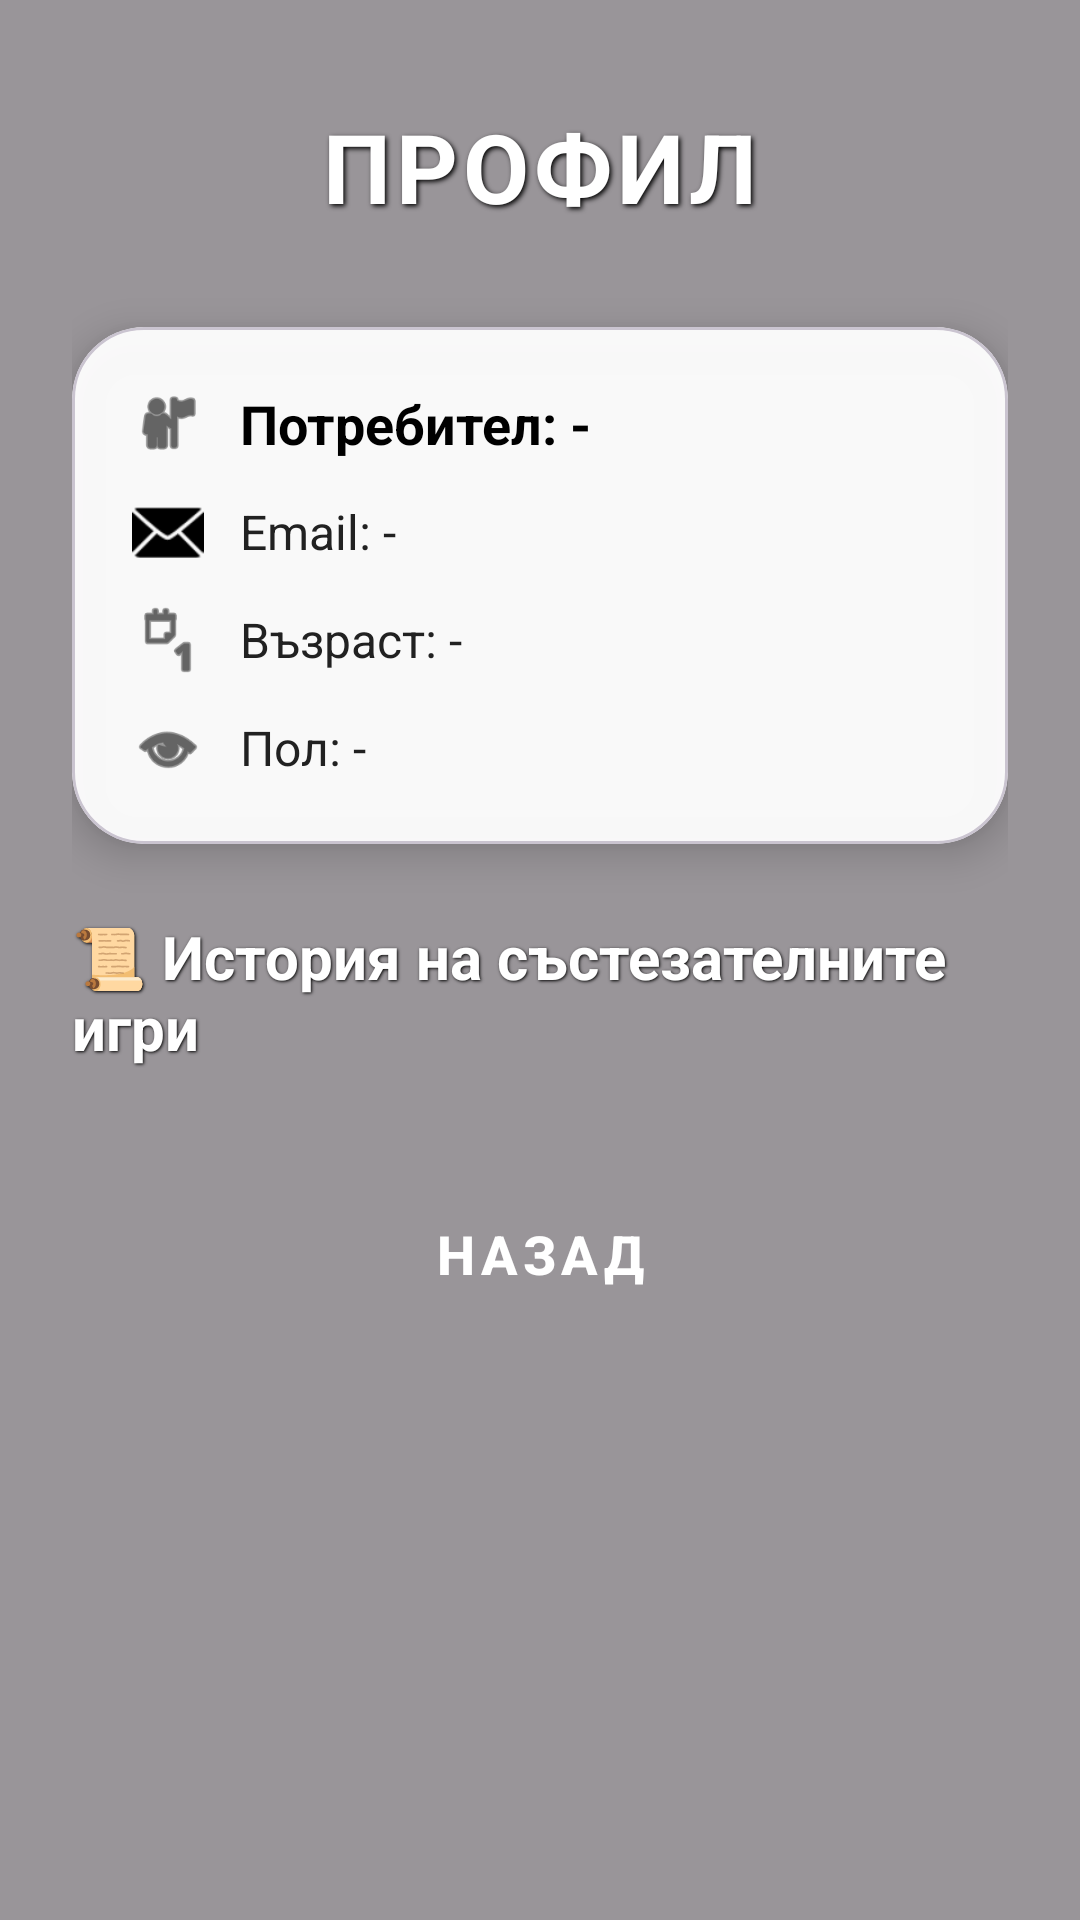

Icon bounding boxes for this 1080×1920 phone screenshot, format [left=x1, top=y1, right=x2, bottom=y2]:
day: [left=144, top=608, right=191, bottom=672]
myplaces: [left=142, top=396, right=196, bottom=450]
view: [left=139, top=731, right=197, bottom=768]
